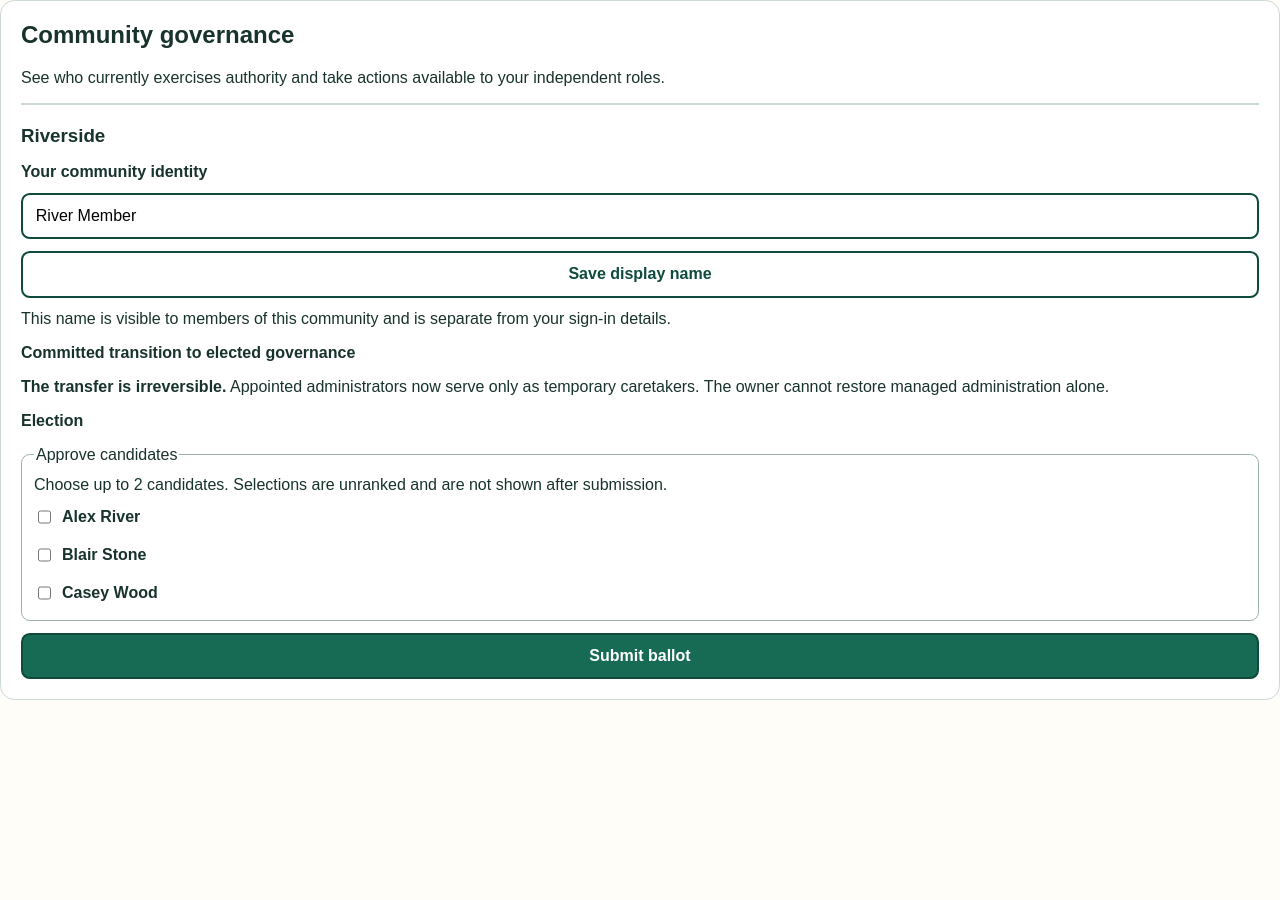
Test: GovernanceSection › uses labelled approval checkboxes and prevents over-selection
Click the checkbox named "Approve Alex River" at (44, 517), box [38,505,51,529]
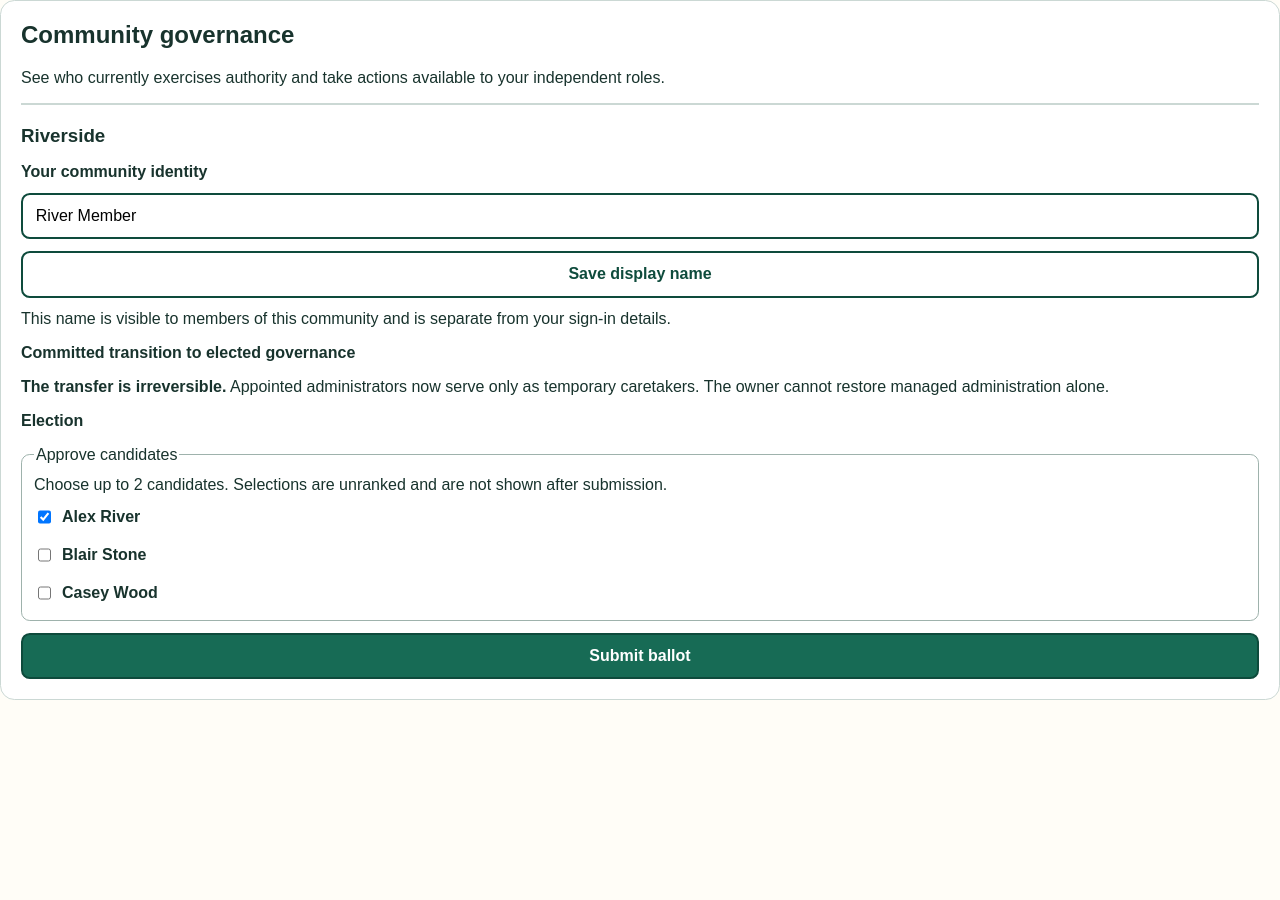
Click the checkbox named "Approve Blair Stone" at (44, 555), box [38,543,51,567]
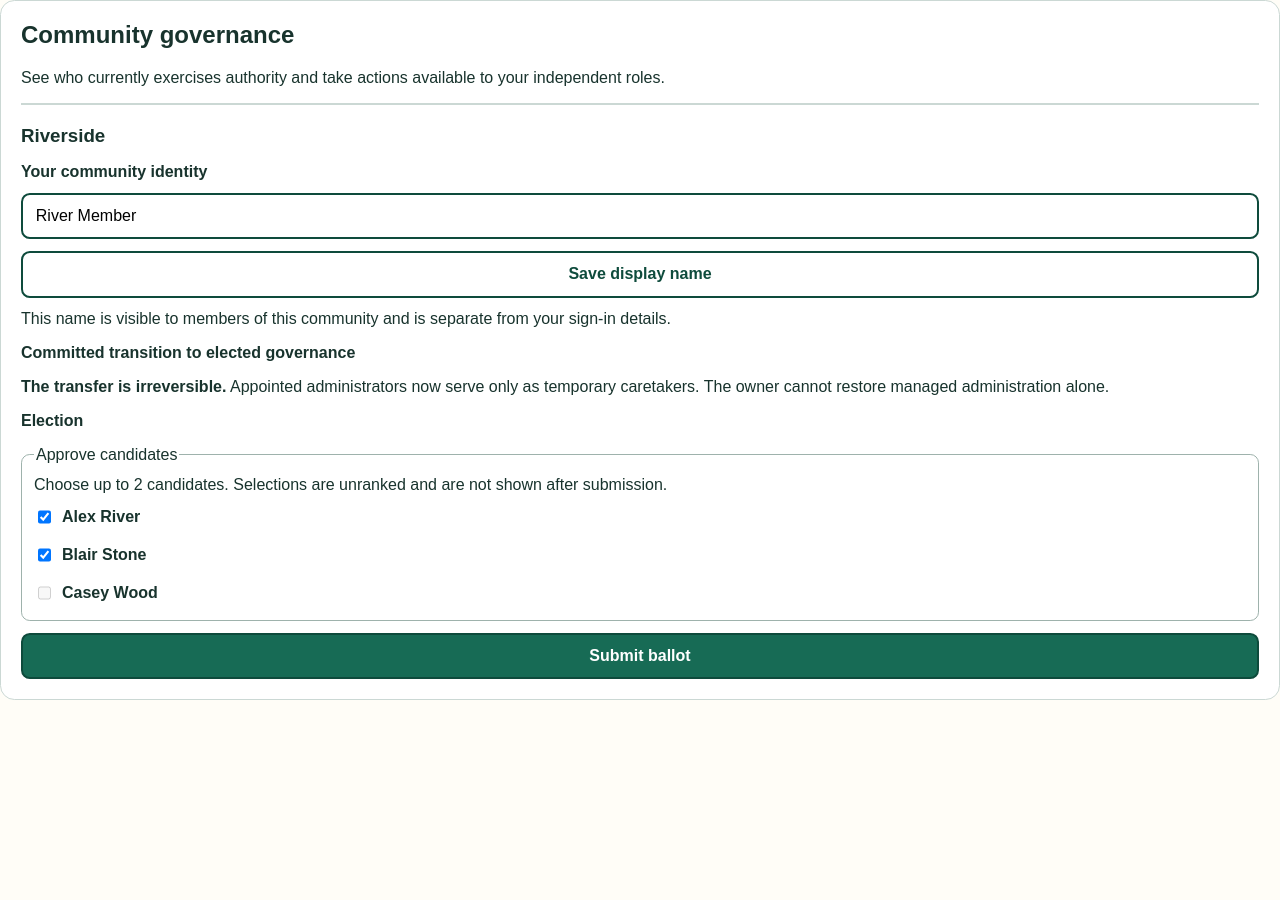
Expected: the text "Choose up to 2 candidates." is shown, [34,476,667,493]
Expected: the checkbox named "Approve Casey Wood" is disabled, [38,581,51,605]
